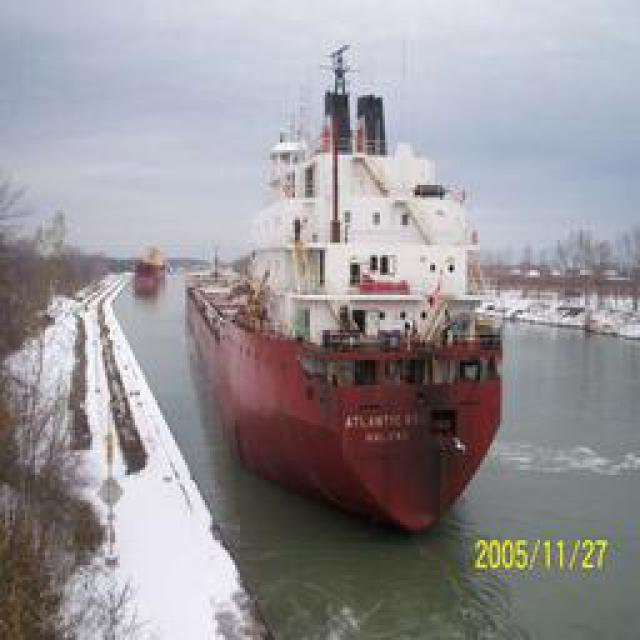Ship: (190, 41, 508, 536)
